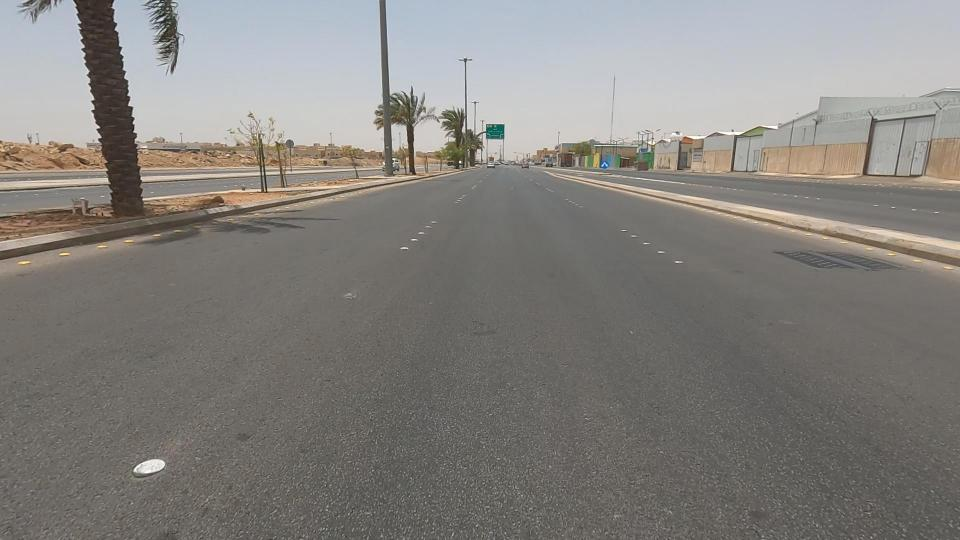CLUTTER_SIDEWALK: (103, 164, 329, 227), (290, 155, 407, 201)
